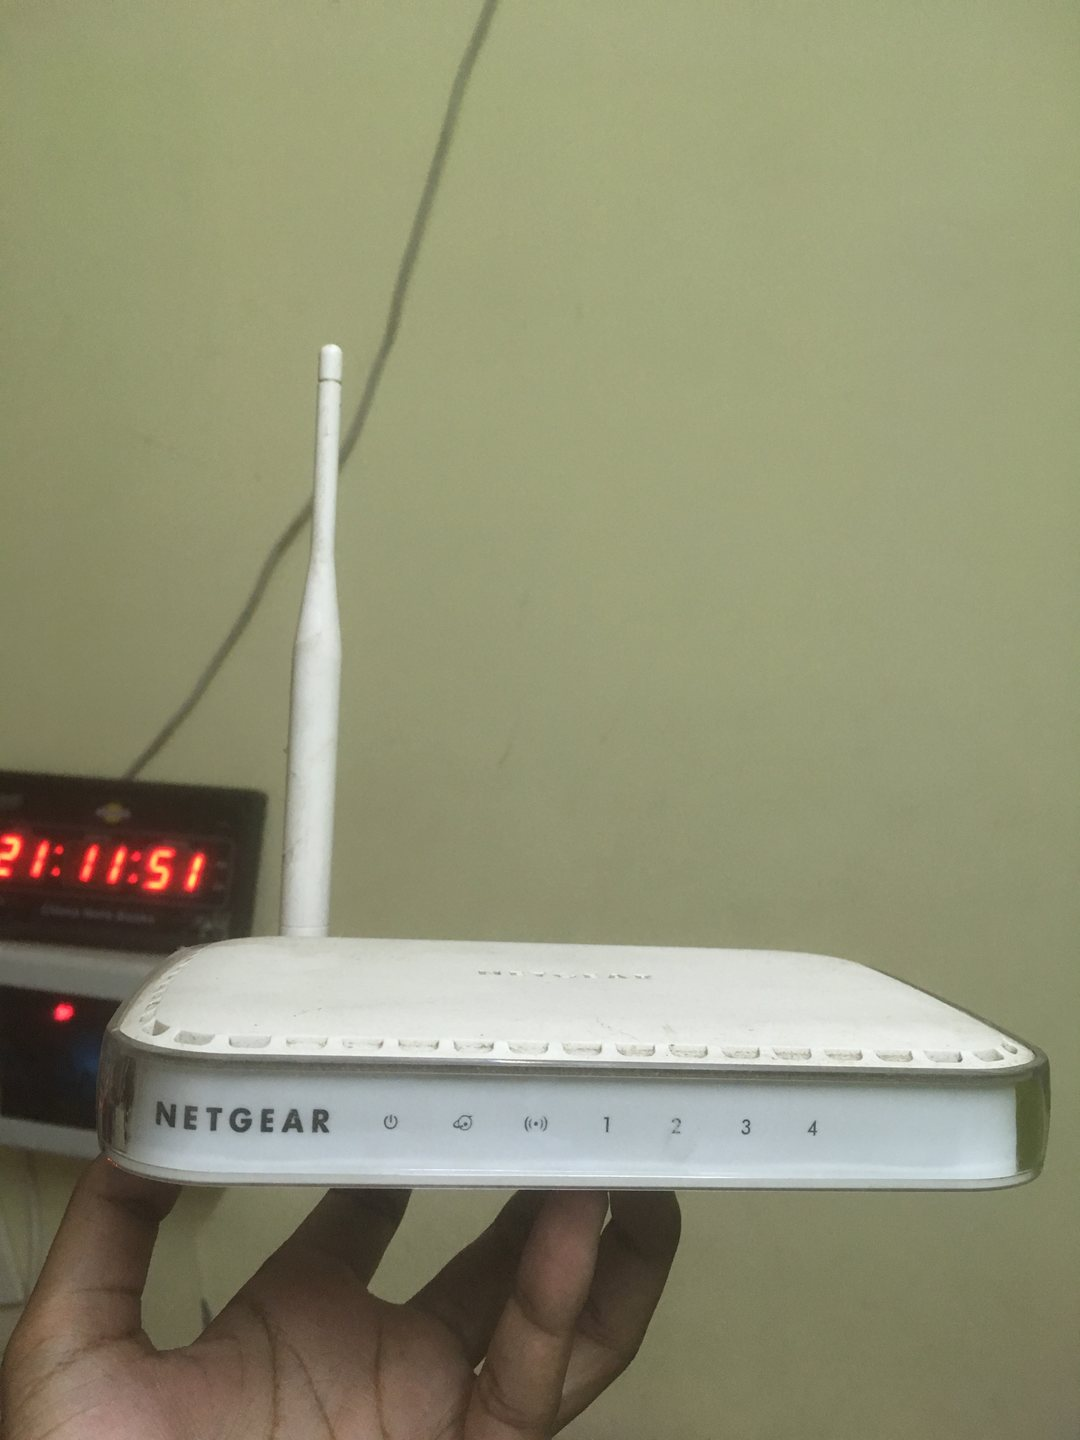NETGEAR: (152, 1089, 336, 1149)
modem: (86, 1009, 1057, 1193)
